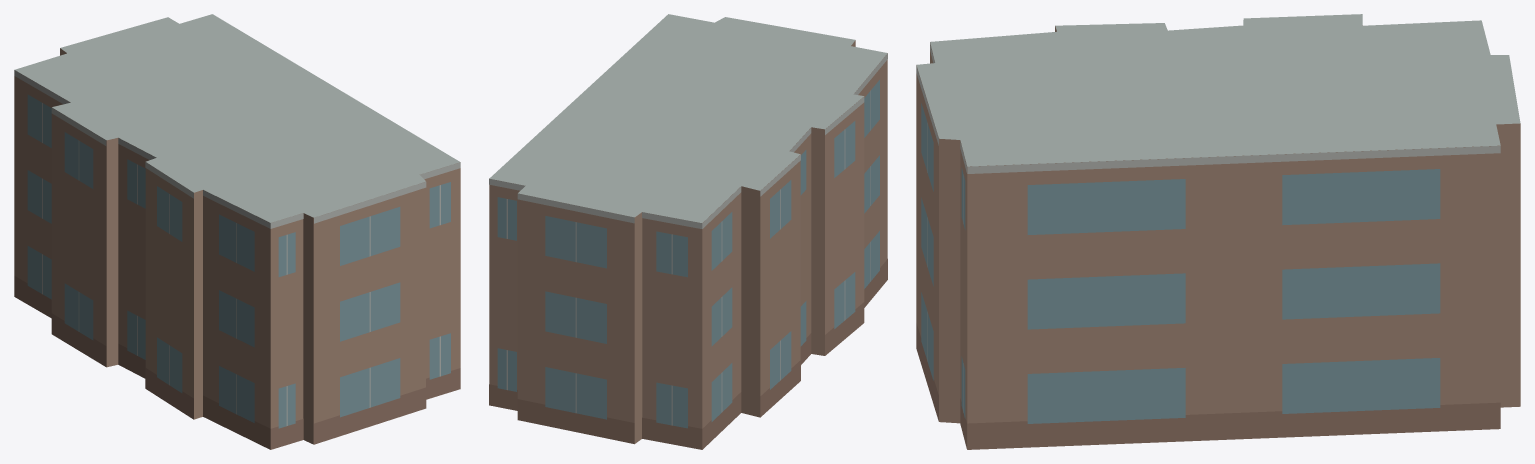
The model's file is survey-upis-32674592.glb.
The picture shows the model from 3 angles, left to right: view 1: azimuth 30°, elevation 25°; view 2: azimuth 150°, elevation 25°; view 3: azimuth 270°, elevation 25°; orthographic projection. The views are drawn at different scales.
Visible parts, largest first — view 1: survey-upis-32674592.tmp; view 2: survey-upis-32674592.tmp; view 3: survey-upis-32674592.tmp.
Part boxes in pixels (x1=…): survey-upis-32674592.tmp: x1=14, y1=14, x2=460, y2=449; survey-upis-32674592.tmp: x1=489, y1=14, x2=887, y2=449; survey-upis-32674592.tmp: x1=916, y1=14, x2=1520, y2=449.
Bounding box in the file's own units: 10.58 × 9.15 × 17.7.
